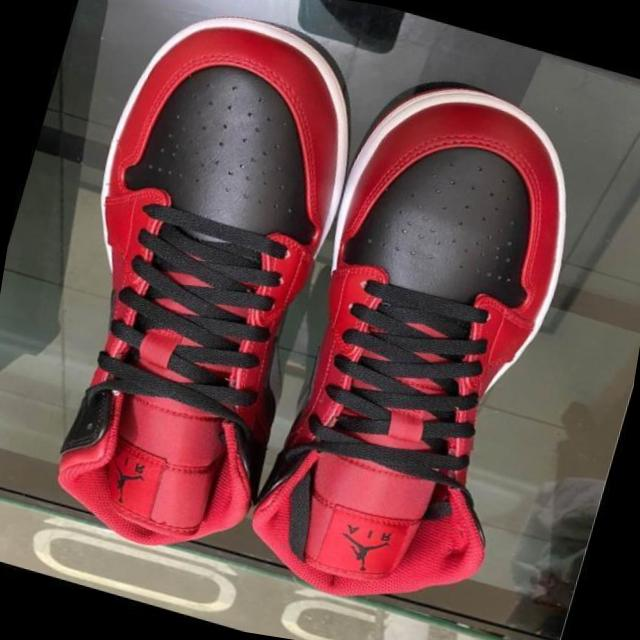nike_original_jordan: (227, 47, 618, 640), (0, 0, 387, 581)
